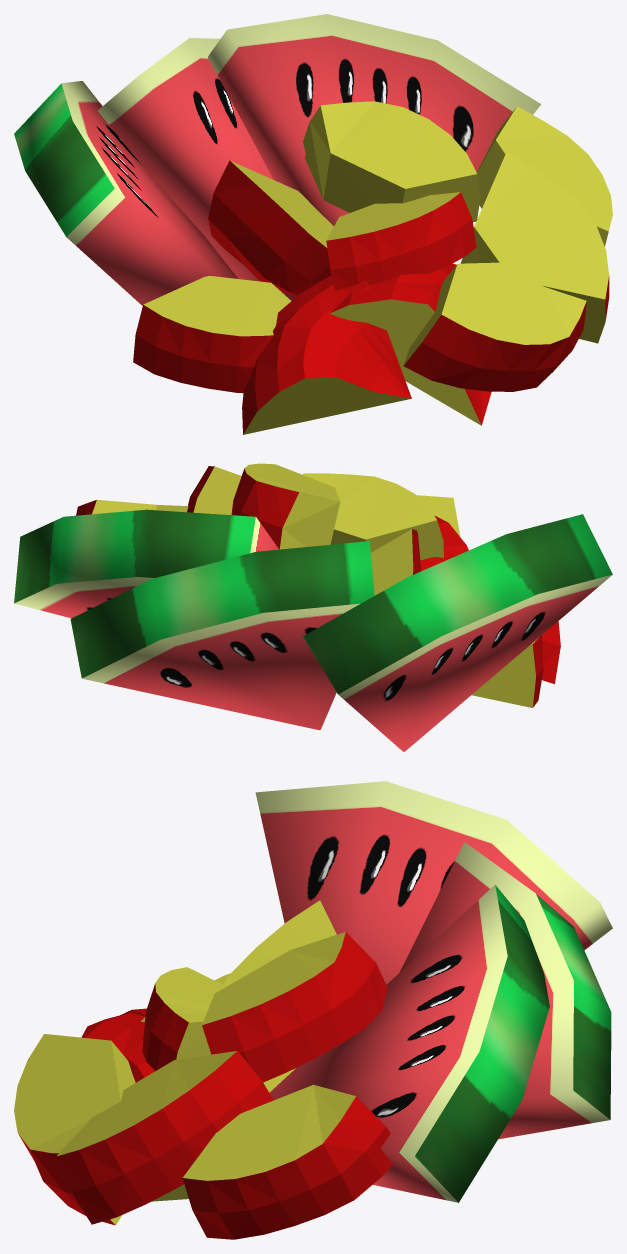
Rendered from BowlContent2.obj.
The picture shows the model from 3 angles, top to bottom: view 1: azimuth 30°, elevation 25°; view 2: azimuth 150°, elevation 25°; view 3: azimuth 270°, elevation 25°; orthographic projection. The views are drawn at different scales.
Visible parts, largest first — view 1: Melon_low.003_Sphere.005, Melon_low.001_Sphere.003, Bouncing_apple.036_Cylinder.015, Melon_low.002_Sphere.004, Bouncing_apple.035_Cylinder.014, Bouncing_apple.033_Cylinder.015, Bouncing_apple.037_Cylinder.005, Bouncing_apple.034_Cylinder.005, Bouncing_apple.032_Cylinder.014, Bouncing_apple.031_Cylinder.005, Bouncing_apple.038_Cylinder.014, Bouncing_apple.039_Cylinder.015; view 2: Melon_low.002_Sphere.004, Melon_low.001_Sphere.003, Melon_low.003_Sphere.005, Bouncing_apple.033_Cylinder.015, Bouncing_apple.031_Cylinder.005, Bouncing_apple.034_Cylinder.005, Bouncing_apple.032_Cylinder.014, Bouncing_apple.037_Cylinder.005, Bouncing_apple.035_Cylinder.014, Bouncing_apple.039_Cylinder.015, Bouncing_apple.036_Cylinder.015, Bouncing_apple.038_Cylinder.014; view 3: Melon_low.003_Sphere.005, Melon_low.001_Sphere.003, Bouncing_apple.039_Cylinder.015, Melon_low.002_Sphere.004, Bouncing_apple.037_Cylinder.005, Bouncing_apple.033_Cylinder.015, Bouncing_apple.036_Cylinder.015, Bouncing_apple.031_Cylinder.005, Bouncing_apple.032_Cylinder.014, Bouncing_apple.038_Cylinder.014.
Boxes of the visible parts, x1,y1,x2,y2 form: Melon_low.003_Sphere.005: (208,14,541,225); Melon_low.001_Sphere.003: (14,81,238,305); Bouncing_apple.036_Cylinder.015: (403,262,586,391); Melon_low.002_Sphere.004: (97,38,295,300); Bouncing_apple.035_Cylinder.014: (242,276,411,434); Bouncing_apple.033_Cylinder.015: (303,101,480,222); Bouncing_apple.037_Cylinder.005: (460,152,609,343); Bouncing_apple.034_Cylinder.005: (133,275,290,393); Bouncing_apple.032_Cylinder.014: (208,160,333,296); Bouncing_apple.031_Cylinder.005: (326,192,476,290); Bouncing_apple.038_Cylinder.014: (330,263,491,425); Bouncing_apple.039_Cylinder.015: (476,106,612,246); Melon_low.002_Sphere.004: (70,541,374,730); Melon_low.001_Sphere.003: (303,514,612,751); Melon_low.003_Sphere.005: (14,509,278,618); Bouncing_apple.033_Cylinder.015: (231,463,340,549); Bouncing_apple.031_Cylinder.005: (303,473,443,560); Bouncing_apple.034_Cylinder.005: (471,635,543,707); Bouncing_apple.032_Cylinder.014: (371,529,421,595); Bouncing_apple.037_Cylinder.005: (187,466,241,514); Bouncing_apple.035_Cylinder.014: (420,548,560,684); Bouncing_apple.039_Cylinder.015: (76,499,188,515); Bouncing_apple.036_Cylinder.015: (417,495,459,536); Bouncing_apple.038_Cylinder.014: (434,515,468,555); Melon_low.003_Sphere.005: (269,885,549,1202); Melon_low.001_Sphere.003: (255,781,612,984); Bouncing_apple.039_Cylinder.015: (182,1084,393,1239); Melon_low.002_Sphere.004: (399,842,611,1139); Bouncing_apple.037_Cylinder.005: (56,1051,273,1224); Bouncing_apple.033_Cylinder.015: (202,932,387,1082); Bouncing_apple.036_Cylinder.015: (14,1034,135,1225); Bouncing_apple.031_Cylinder.005: (142,967,226,1070); Bouncing_apple.032_Cylinder.014: (223,900,336,1092); Bouncing_apple.038_Cylinder.014: (87,1013,188,1201).
Size of the model in its own units: 1.25 by 0.6011 by 1.11.
